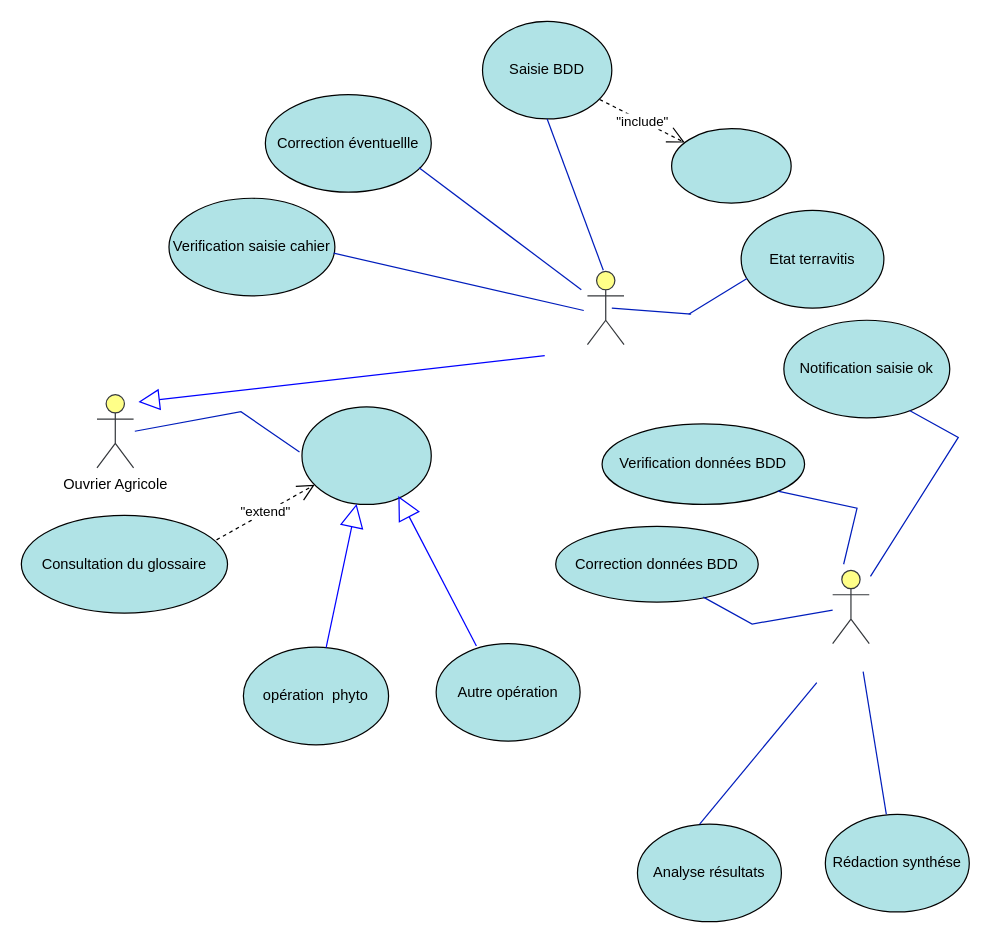
This 991x943 diagram has some shape labels left out. The shapes that lost their labels are listed below. From the top down, each one's centre as x and y in pixels, then its label:
At pixel 730 165: "Identification".
At pixel 605 307: "Chef exploitation".
At pixel 366 455: "Saisie Operation".
At pixel 850 606: "chercheur".
